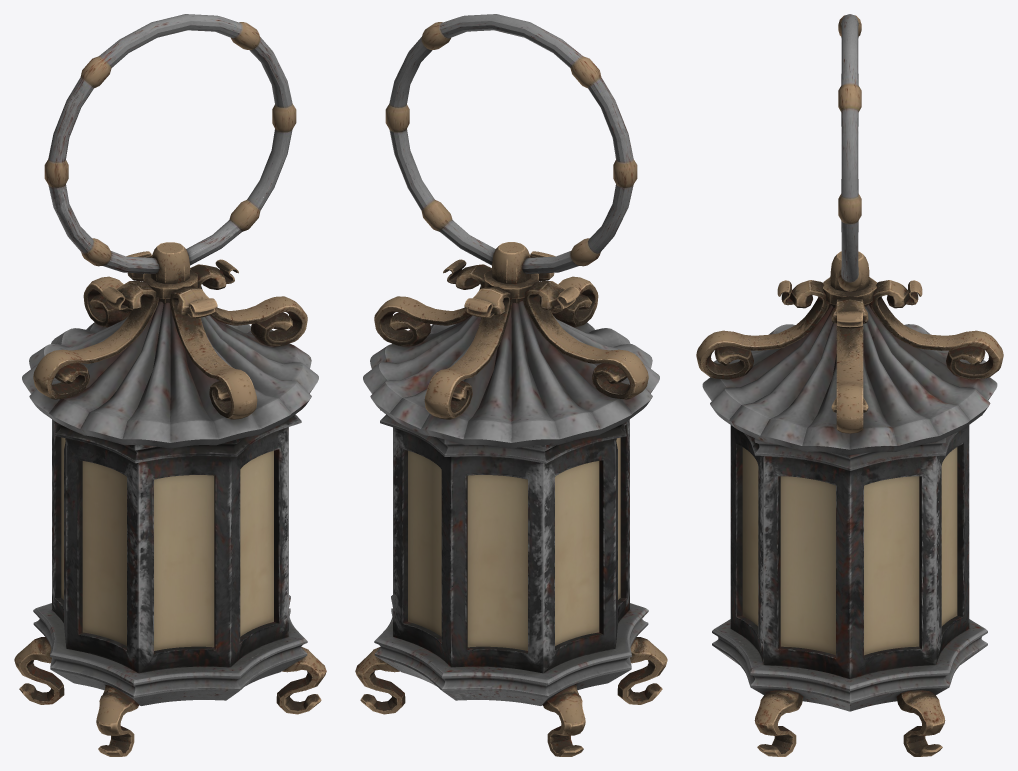
Rendered from Old_Lampare.obj.
3 views of the same model, side by side, from view 1: azimuth 30°, elevation 25°; view 2: azimuth 150°, elevation 25°; view 3: azimuth 270°, elevation 25° (orthographic).
Visible parts, largest first — view 1: defaultMaterial; view 2: defaultMaterial; view 3: defaultMaterial.
Boxes of the visible parts, x1,y1,x2,y2 form: defaultMaterial: [14, 14, 326, 756]; defaultMaterial: [355, 14, 667, 756]; defaultMaterial: [696, 14, 1003, 756].
Size of the model in its own units: 0.2884 by 0.7069 by 0.2884.
